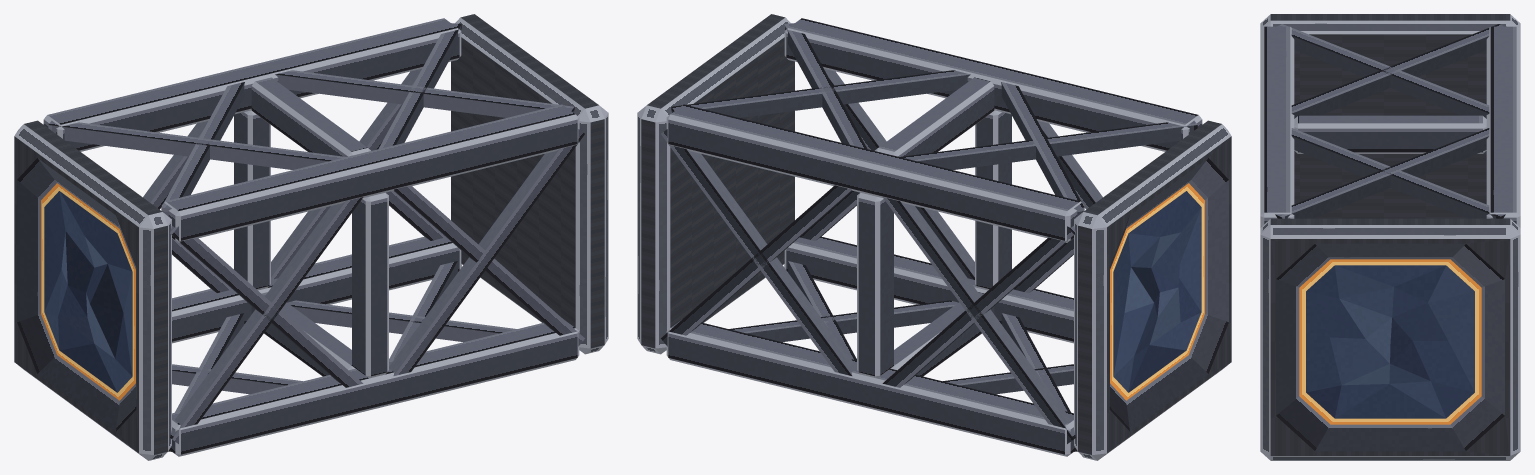
The model's file is marlit_brew.glb.
The picture shows the model from 3 angles, left to right: view 1: azimuth 30°, elevation 25°; view 2: azimuth 150°, elevation 25°; view 3: azimuth 270°, elevation 25°; orthographic projection. The views are drawn at different scales.
Visible parts, largest first — view 1: marlit_brew_body; view 2: marlit_brew_body; view 3: marlit_brew_body.
Boxes of the visible parts, <box> form: marlit_brew_body: <box>14,14,608,460</box>; marlit_brew_body: <box>637,14,1231,460</box>; marlit_brew_body: <box>1260,14,1520,460</box>.
Bounding box in the file's own units: 4 × 2 × 2.
Materials: 1 (1 with a texture image).
